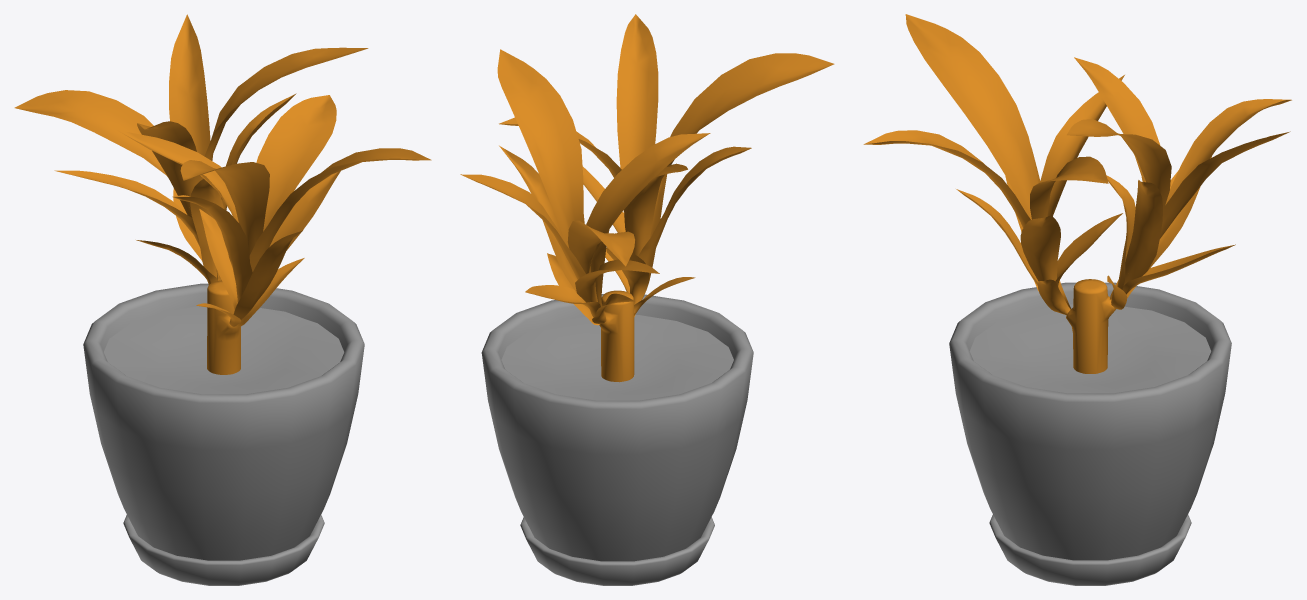
The model's file is SM_Plant_01_A.FBX.
The picture shows the model from 3 angles, left to right: view 1: azimuth 30°, elevation 25°; view 2: azimuth 150°, elevation 25°; view 3: azimuth 270°, elevation 25°; orthographic projection. The views are drawn at different scales.
Parts seen in each view (by area): view 1: SM_Plant_01_A; view 2: SM_Plant_01_A; view 3: SM_Plant_01_A.
Part boxes in pixels (x1,y1,x2,y2): SM_Plant_01_A: (14,14,431,585); SM_Plant_01_A: (460,14,834,585); SM_Plant_01_A: (863,14,1291,585).
Size of what is drawn, in the model's own units: 32.32 by 55.59 by 45.04.
